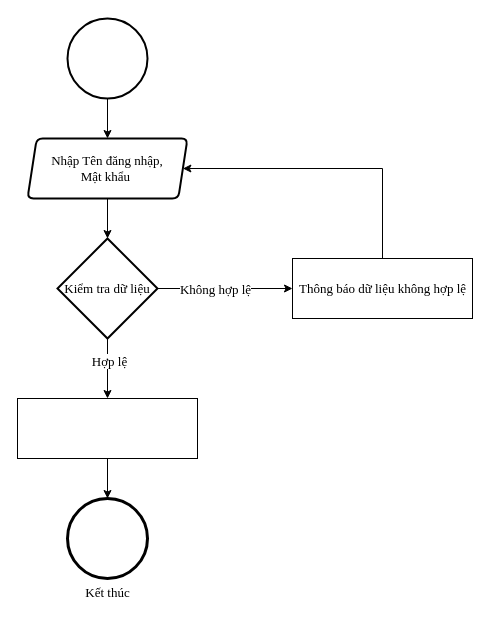
Image size: 490x618. Some labels were removed from this diagram. The box of each missing label's shape, as (x1, y1, x2, y2) in pixels:
Bắt đầu: (66, 17, 148, 99)
Chuyển hướng sang trang Trang chủ: (16, 398, 198, 458)
